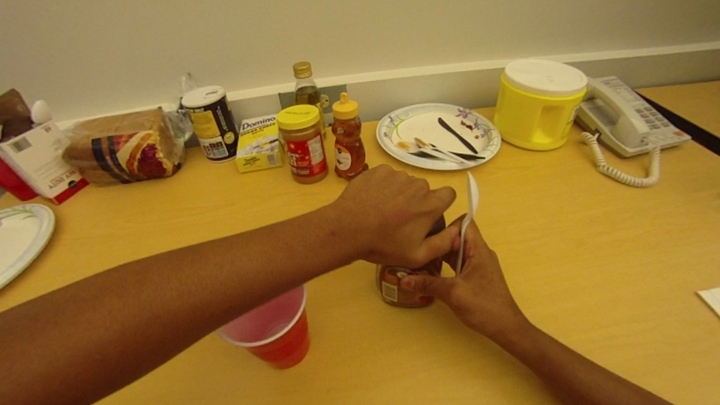hand: (400, 215, 517, 336), (338, 159, 462, 262)
